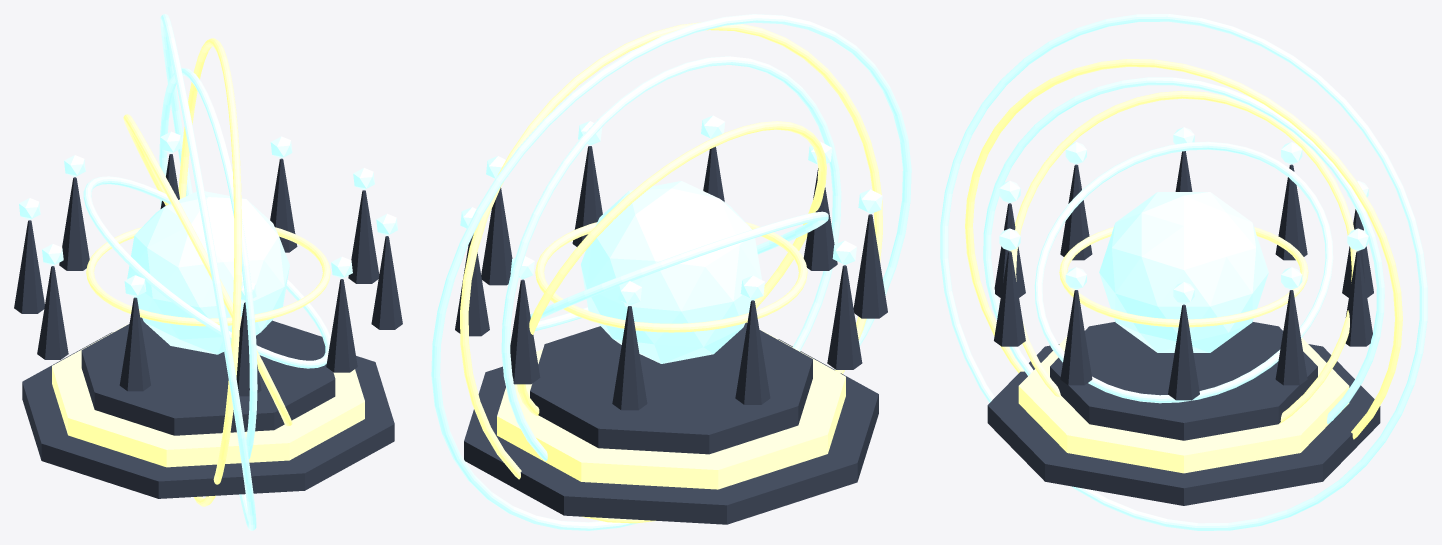
File: gpu-blender-v42.glb
The picture shows the model from 3 angles, left to right: view 1: azimuth 30°, elevation 25°; view 2: azimuth 150°, elevation 25°; view 3: azimuth 270°, elevation 25°; orthographic projection. The views are drawn at different scales.
Parts seen in each view (by area): view 1: Cylinder.002, Cylinder, SovereignCore_zoth-os-website, Cylinder.001, Torus.005, Torus.004, Torus.001, Torus.003, Torus, Torus.002, Cone.006, Cone.008 (+7 smaller); view 2: Cylinder.002, SovereignCore_zoth-os-website, Cylinder, Cylinder.001, Torus.005, Torus.003, Torus.004, Torus.002, Torus, Torus.001, Cone.003, Cone.004 (+8 smaller); view 3: SovereignCore_zoth-os-website, Cylinder.002, Cylinder, Cylinder.001, Torus.005, Torus.004, Torus.003, Torus.001, Torus.002, Torus, Cone, Cone.001 (+7 smaller).
Part boxes in pixels (x1,y1,x2,y2): Cylinder.002: (81,317,335,435); Cylinder: (22,332,394,498); SovereignCore_zoth-os-website: (127,191,289,354); Cylinder.001: (52,324,364,467); Torus.005: (160,14,256,530); Torus.004: (178,38,241,506); Torus.001: (83,176,330,368); Torus.003: (159,68,257,458); Torus: (86,227,330,326); Torus.002: (123,114,292,425); Cone.006: (119,297,150,391); Cone.008: (326,279,357,372); Cylinder.002: (530,322,812,454); SovereignCore_zoth-os-website: (581,181,761,363); Cylinder: (464,339,878,524); Cylinder.001: (497,330,845,489); Torus.005: (431,14,911,530); Torus.003: (501,56,841,461); Torus.004: (460,22,882,523); Torus.002: (517,121,826,415); Torus: (535,222,807,332); Torus.001: (530,211,828,330); Cone.003: (612,306,647,410); Cone.004: (735,300,770,404); SovereignCore_zoth-os-website: (1099,192,1268,352); Cylinder.002: (1050,322,1317,440); Cylinder: (987,344,1380,505); Cylinder.001: (1018,336,1349,473); Torus.005: (940,14,1427,530); Torus.004: (965,59,1402,439); Torus.003: (983,77,1384,423); Torus.001: (1034,141,1333,403); Torus.002: (1010,90,1357,423); Torus: (1059,227,1308,327); Cone: (1168,304,1199,400); Cone.001: (1275,290,1307,385).
Size of the model in its own units: 4.41 by 5.93 by 5.46.
